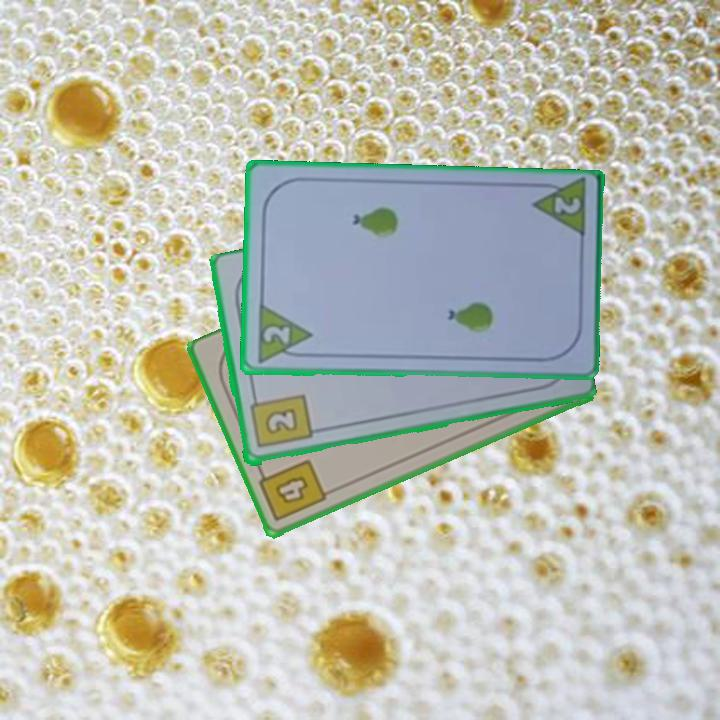2b: (246, 390, 314, 452)
2p: (253, 301, 314, 367), (551, 193, 584, 217)
4b: (254, 456, 330, 525)
